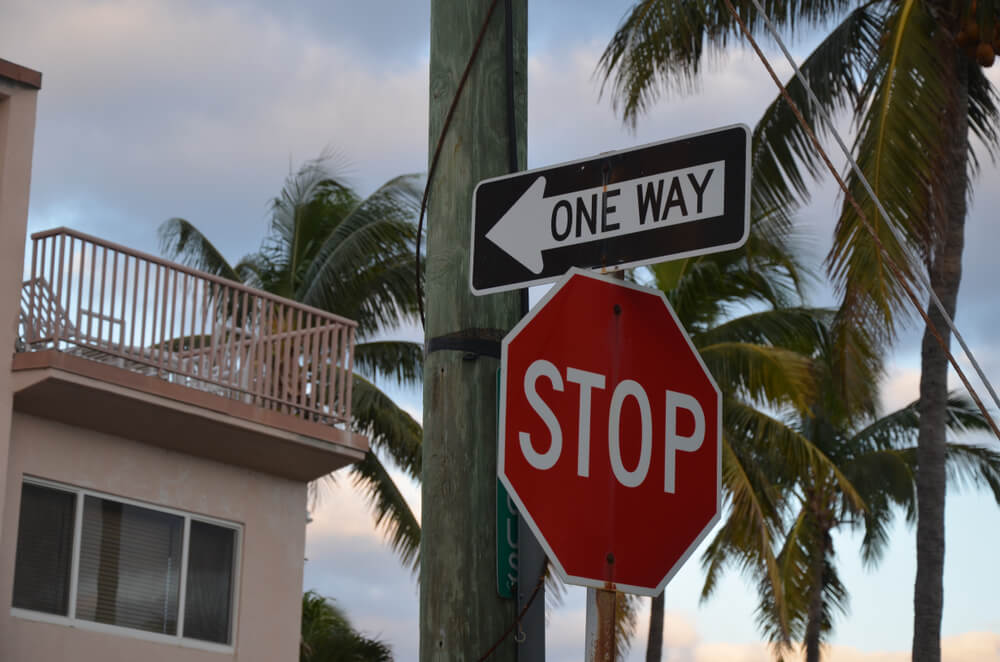stop_sign: (496, 270, 721, 595)
